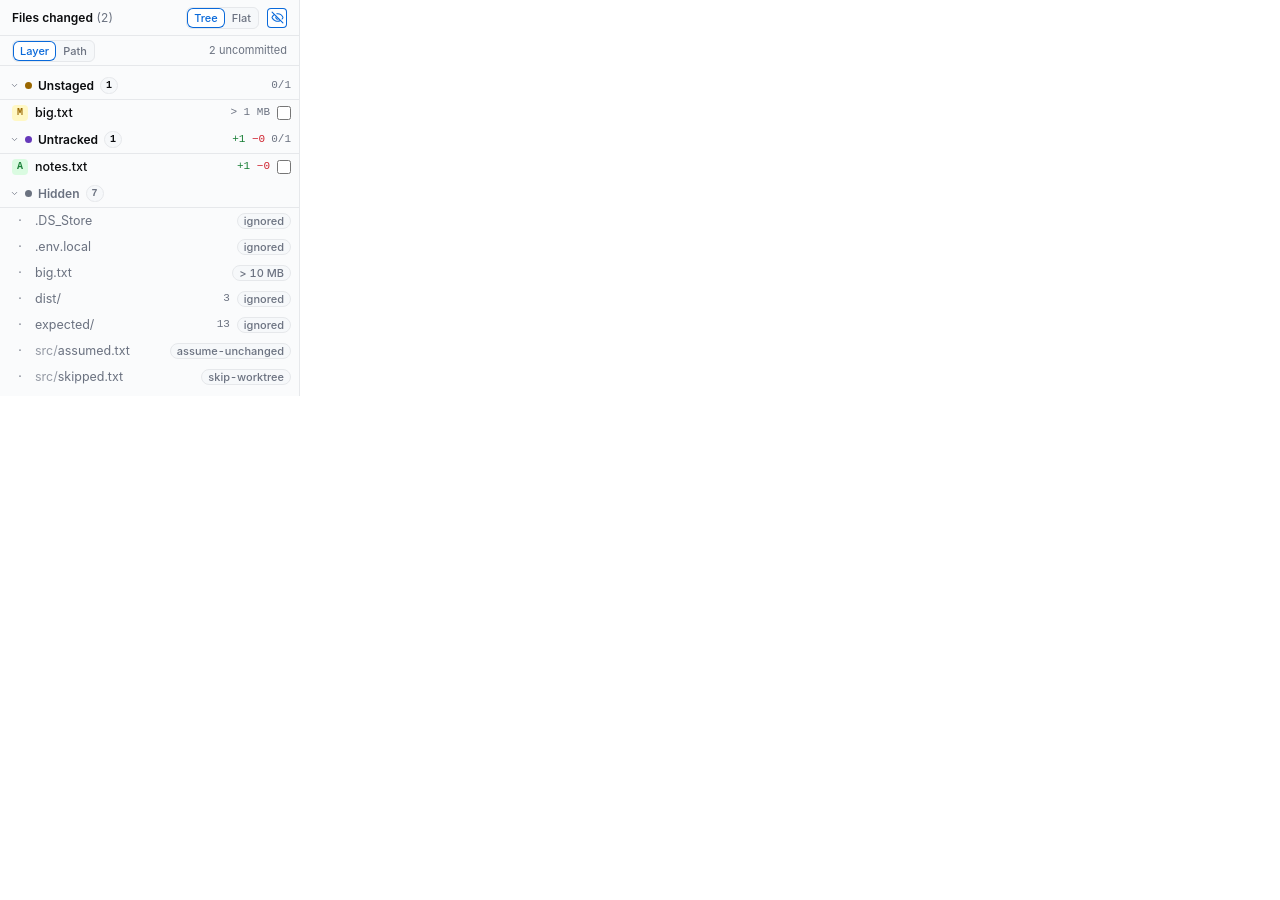
Test case: WhyHiddenPopover (Design §14.3, atlas tab 08) › names the built-in excludes and the setting that turns them off
Click the list item "· .DS_Store ignored" at (64,220), box [0,208,299,234]
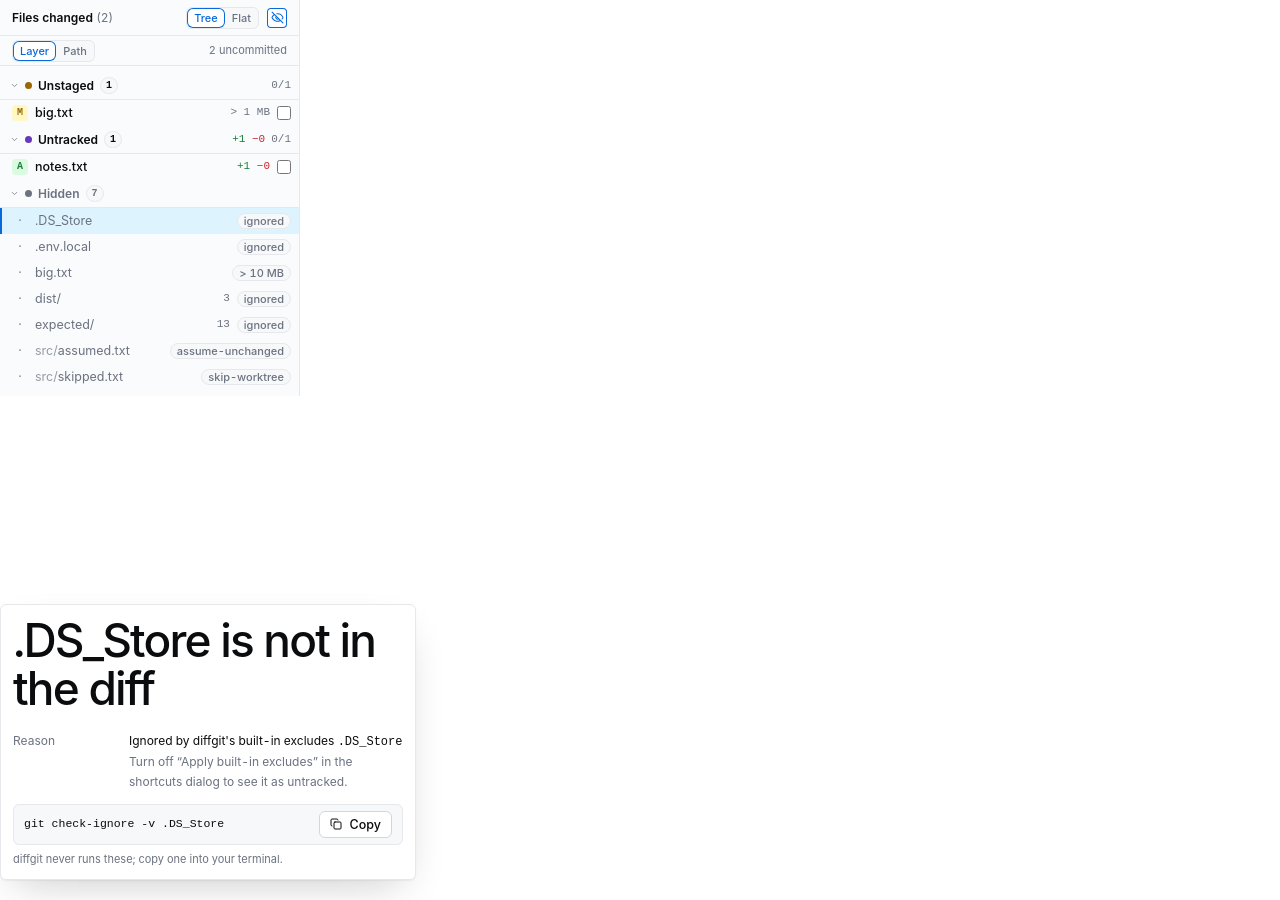
Expected: the dialog with test id "why-hidden" shows "Ignored by diffgit's built-in excludes", [129,733,334,748]
Expected: the dialog with test id "why-hidden" shows "Apply built-in excludes", [129,754,352,789]
